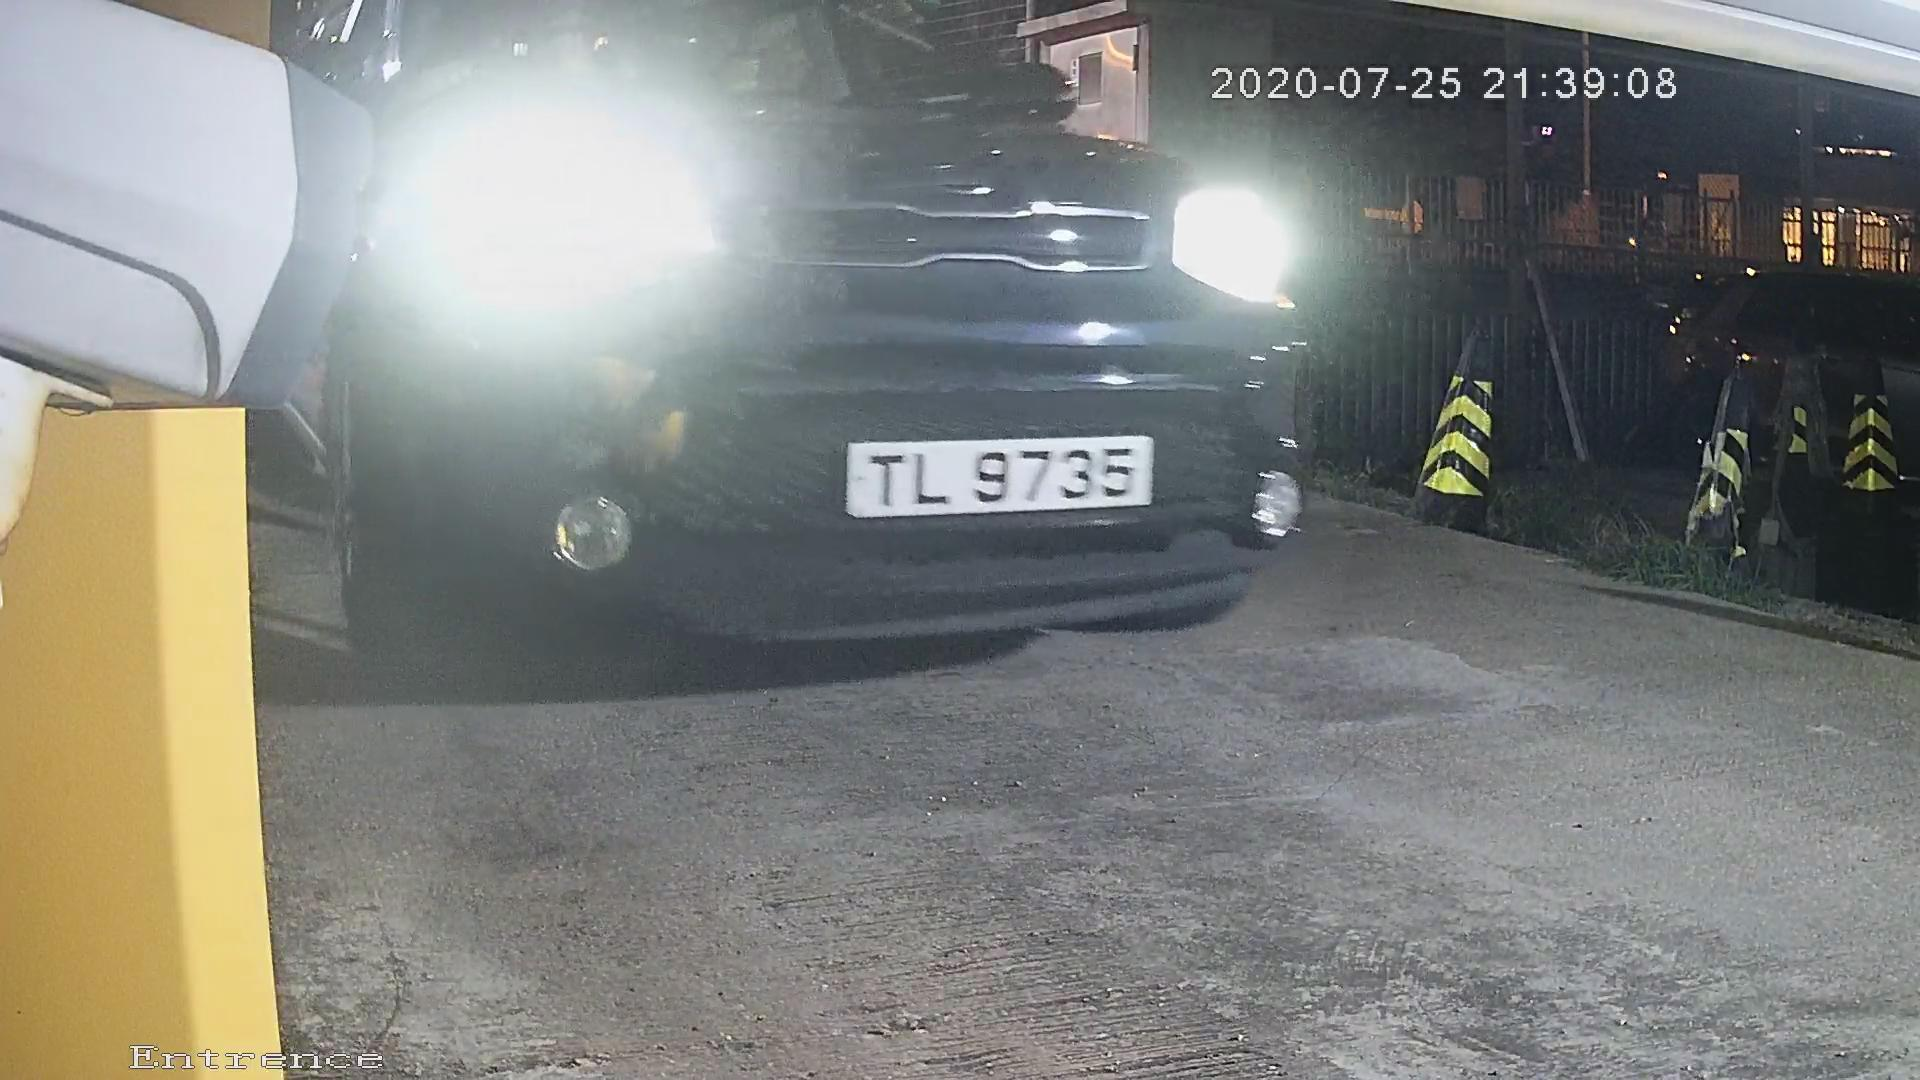privatecar: (241, 1, 1578, 690)
